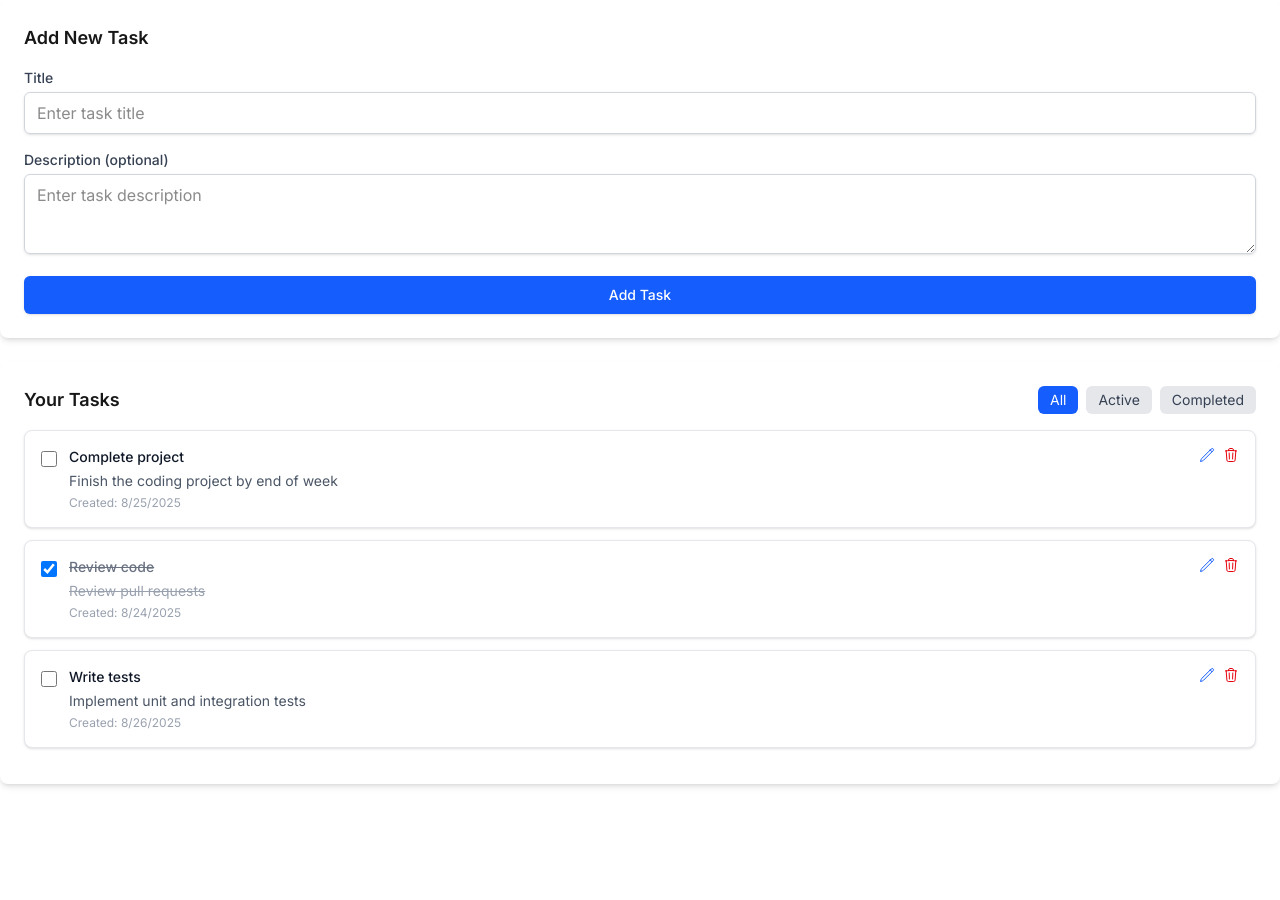
Scenario: TaskList Component Integration Tests › adds new task successfully
Expected: the heading "Complete project" is shown, x1=69 y1=448 x2=184 y2=465
// Fill out the task form
Type "New Integration Test Task" into the field labelled "Title" at {"x": 640, "y": 113}, box x1=24 y1=92 x2=1256 y2=134
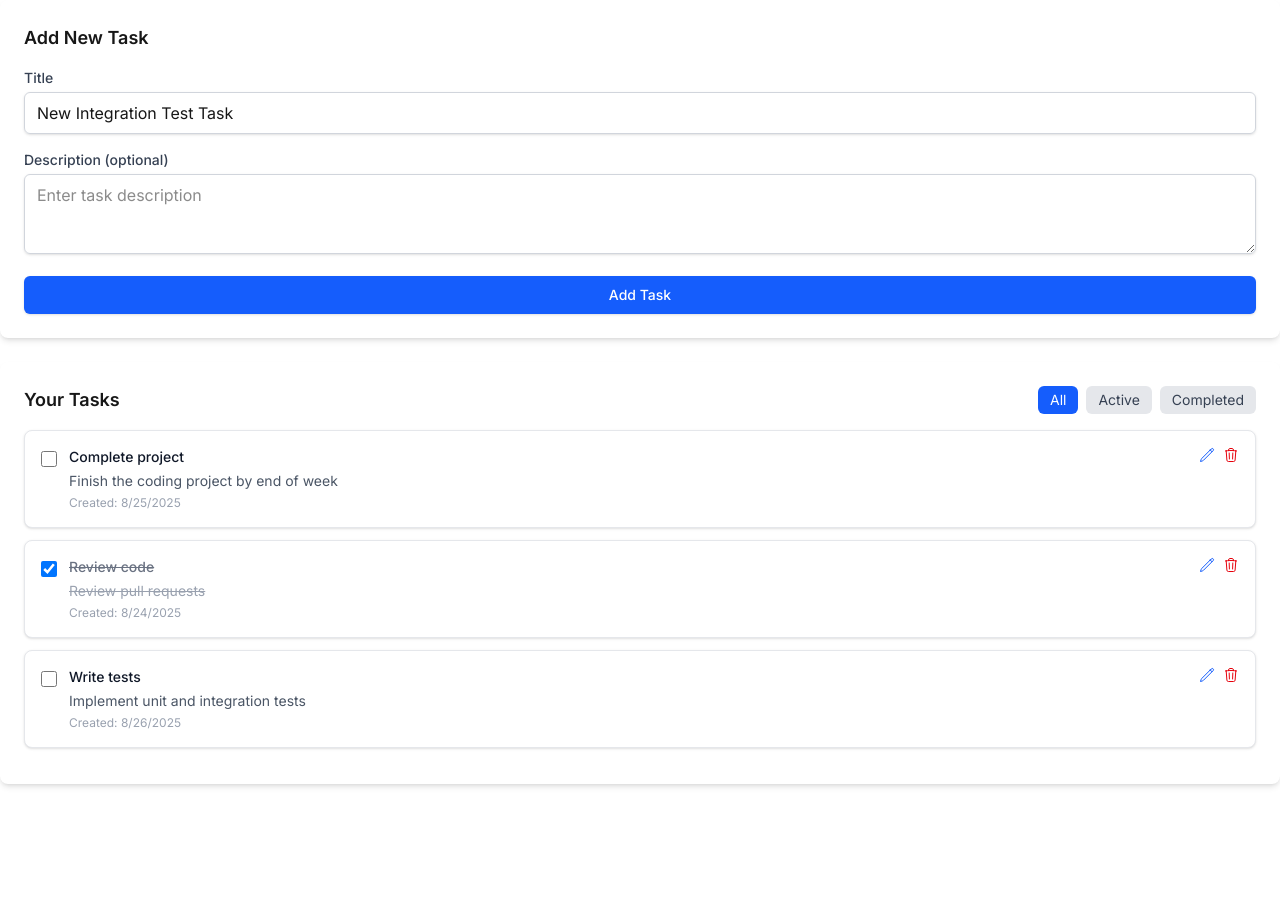
Type "This is a new task created in an integration test" into the text box labelled "Description (optional)" at {"x": 640, "y": 214}, box x1=24 y1=174 x2=1256 y2=254
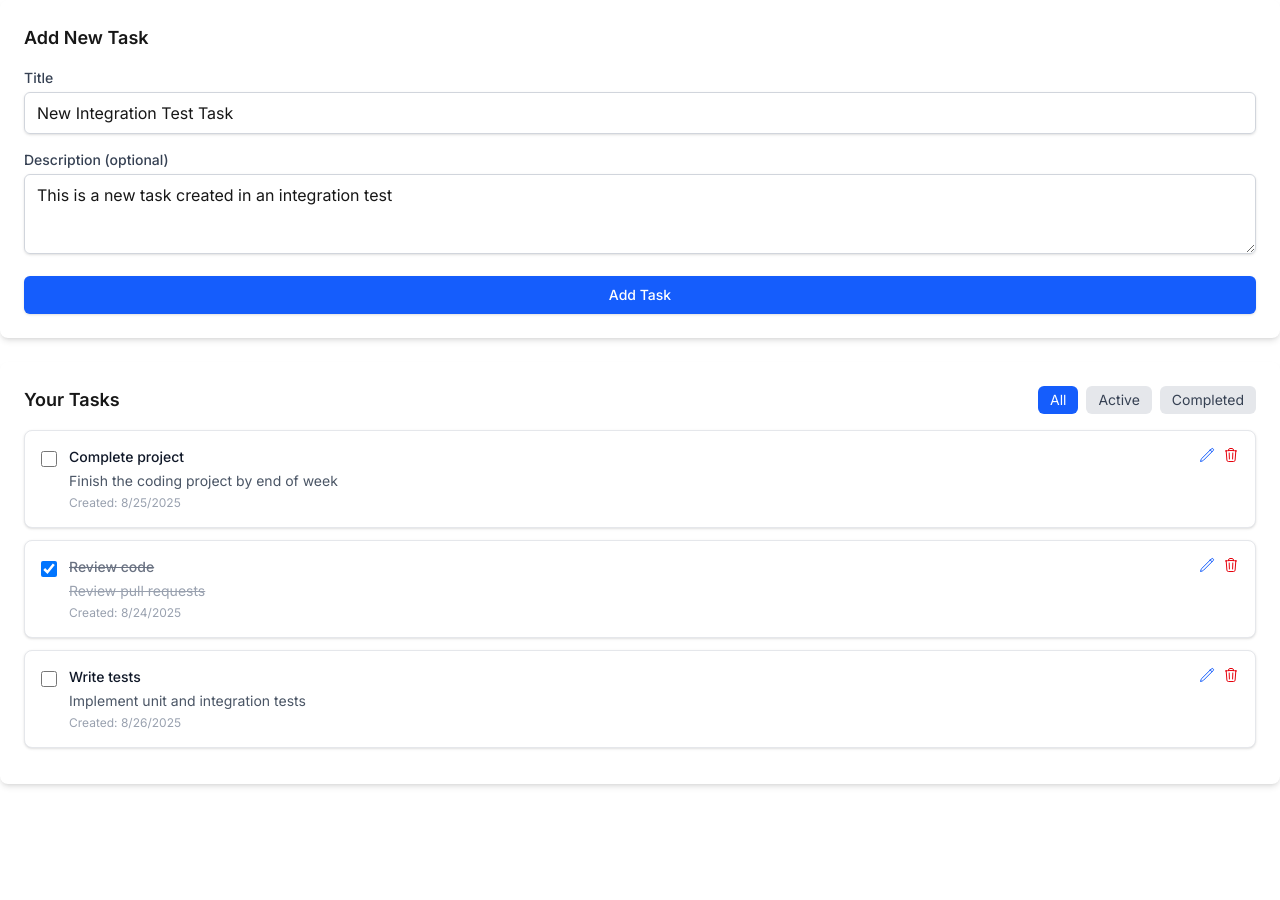
// Submit the form
Click the button "Add Task" at {"x": 640, "y": 295}, box x1=24 y1=276 x2=1256 y2=314
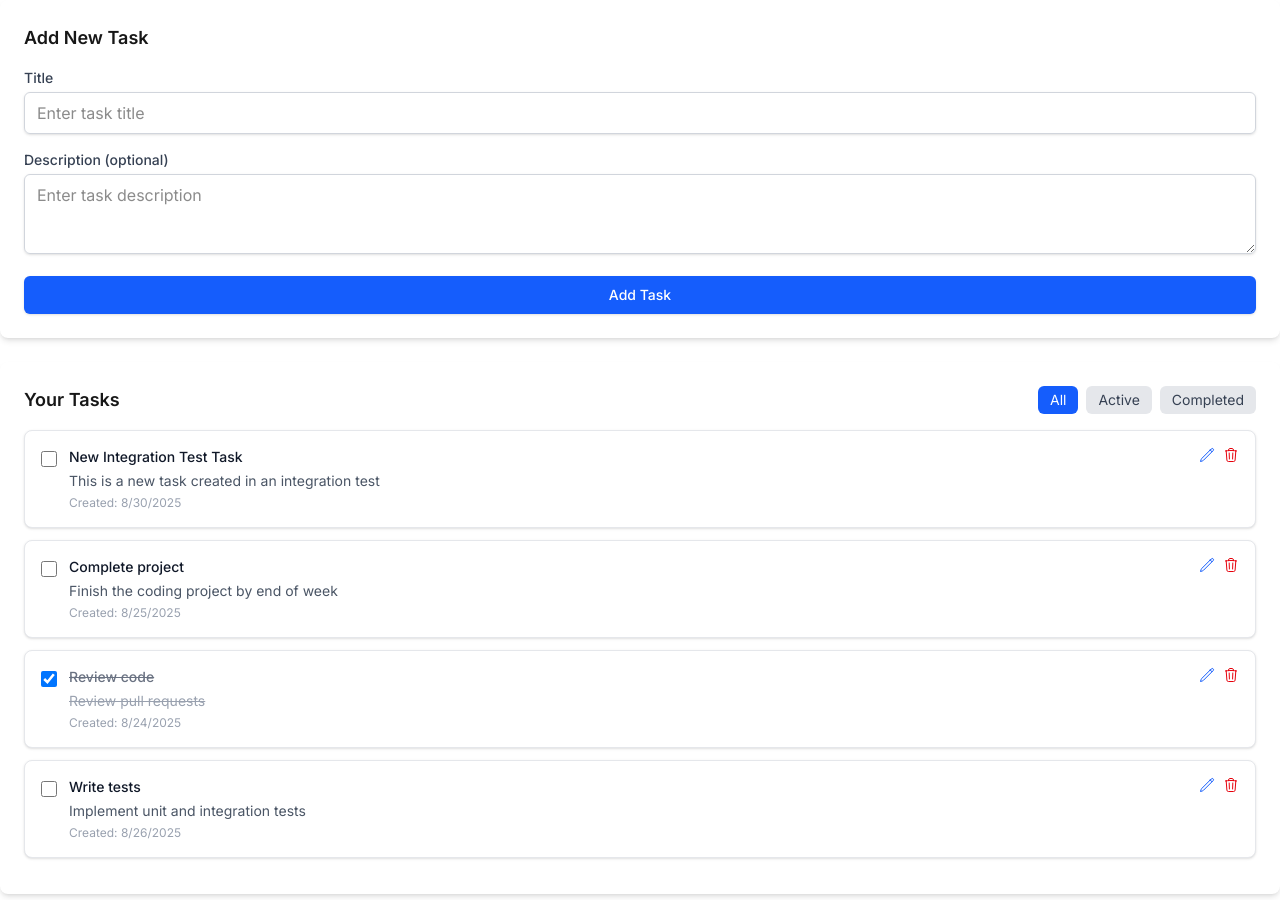
Expected: the heading "New Integration Test Task" is shown, x1=69 y1=448 x2=243 y2=465
Expected: the text "This is a new task created in an integration test" is shown, x1=69 y1=472 x2=380 y2=489
